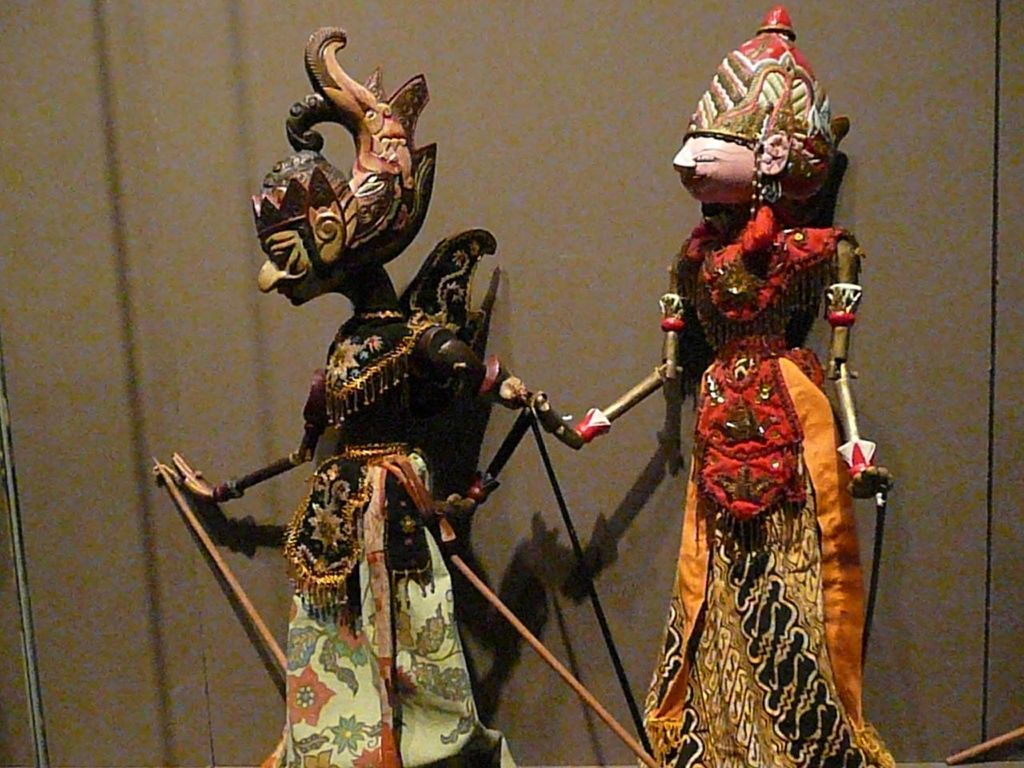Person: (151, 20, 501, 768)
